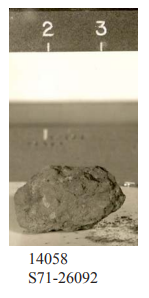Breccia: (15, 145, 137, 227)
